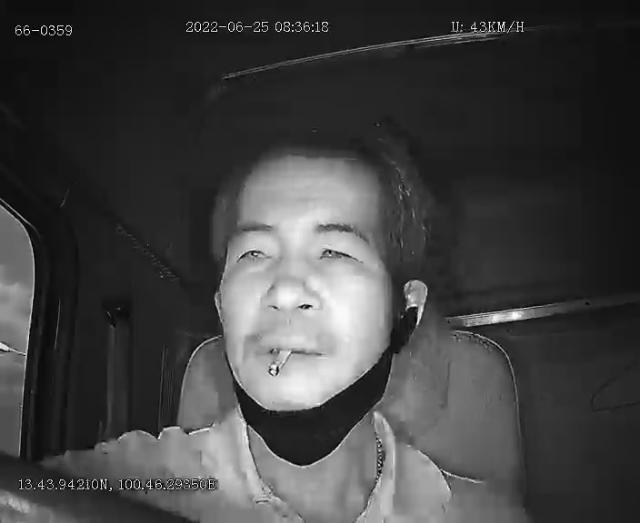SafeDriving: (308, 230, 367, 271), (229, 231, 281, 272)
Smoking: (268, 350, 294, 376)
